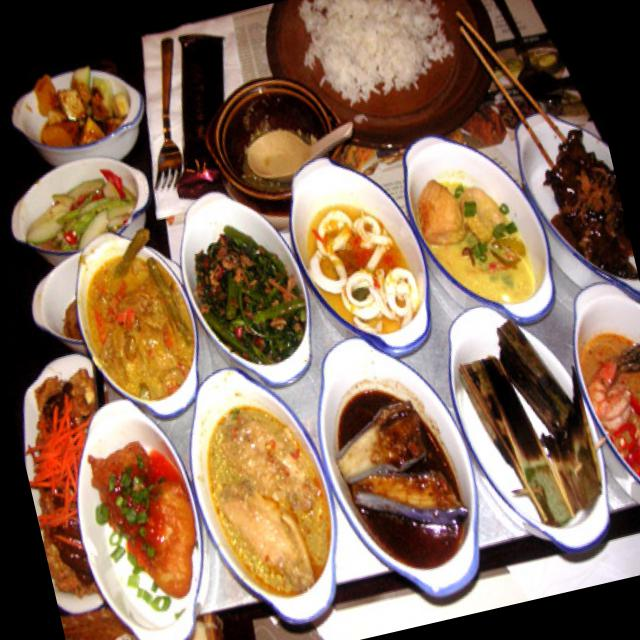dish -X: (320, 335, 481, 598), (448, 302, 613, 557), (192, 365, 339, 626), (402, 133, 558, 324), (81, 399, 203, 640), (291, 156, 432, 348), (182, 189, 311, 382), (77, 230, 199, 413), (571, 279, 640, 497), (12, 154, 149, 263), (12, 69, 140, 163)
dish drainer: (265, 0, 496, 146), (516, 110, 640, 295)
dish rack: (25, 355, 105, 610), (206, 76, 342, 209), (32, 250, 89, 351)
floor -X: (257, 533, 640, 640)
food procesor: (208, 403, 331, 591), (338, 389, 466, 562), (88, 231, 193, 395), (94, 441, 195, 607), (195, 223, 305, 362), (309, 203, 418, 329), (418, 181, 534, 299), (548, 130, 632, 277), (37, 370, 92, 589), (25, 169, 132, 245), (583, 331, 640, 472), (37, 62, 127, 144)
fork: (156, 35, 182, 185)
rice: (303, 0, 455, 94)
spoon occluded: (497, 0, 564, 100), (249, 121, 352, 178)
